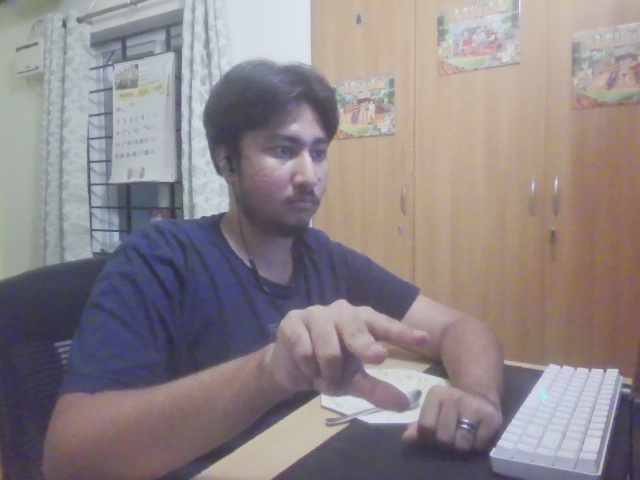no: (262, 285, 432, 416)
